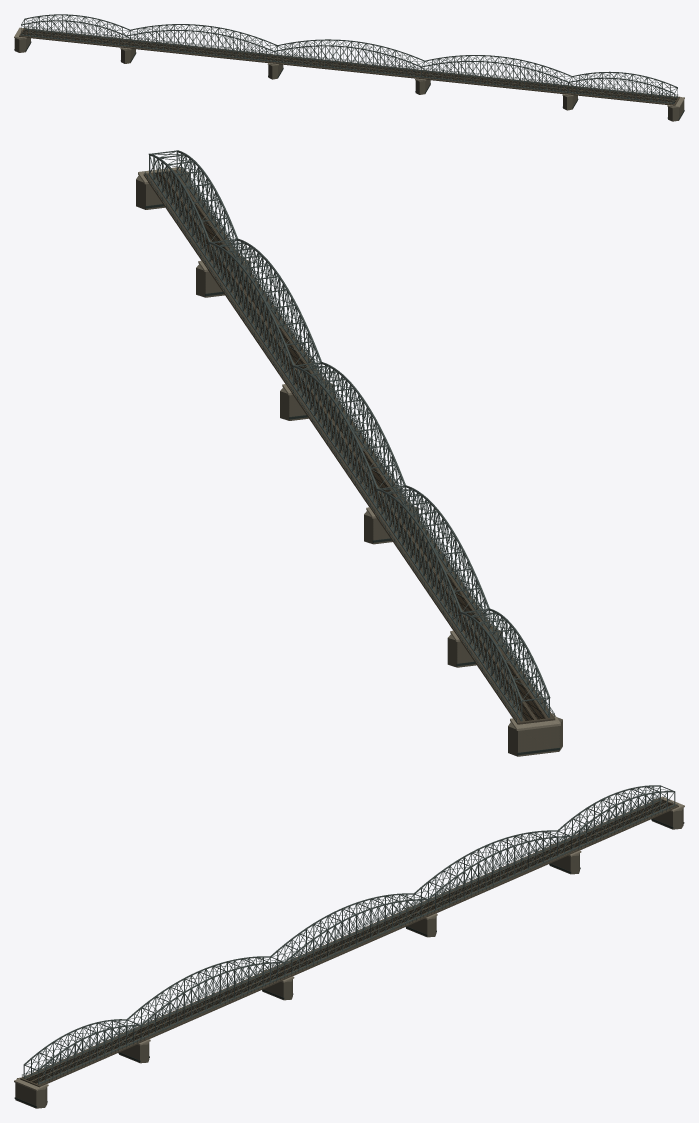
The picture shows the model from 3 angles, top to bottom: view 1: azimuth 30°, elevation 25°; view 2: azimuth 150°, elevation 25°; view 3: azimuth 270°, elevation 25°; orthographic projection. The views are drawn at different scales.
Visible parts, largest first — view 1: willemsspoorbrug-1, willemsspoorbrug-0, willemsspoorbrug-6, willemsspoorbrug-5, willemsspoorbrug-3, willemsspoorbrug-2, willemsspoorbrug-4; view 2: willemsspoorbrug-1, willemsspoorbrug-0, willemsspoorbrug-5, willemsspoorbrug-3, willemsspoorbrug-6, willemsspoorbrug-2; view 3: willemsspoorbrug-1, willemsspoorbrug-0, willemsspoorbrug-5, willemsspoorbrug-3, willemsspoorbrug-6, willemsspoorbrug-2.
Part boxes in pixels (x1=…): willemsspoorbrug-1: x1=20, y1=14, x2=677, y2=104; willemsspoorbrug-0: x1=19, y1=28, x2=679, y2=105; willemsspoorbrug-6: x1=22, y1=30, x2=676, y2=101; willemsspoorbrug-5: x1=21, y1=30, x2=677, y2=102; willemsspoorbrug-3: x1=14, y1=28, x2=684, y2=121; willemsspoorbrug-2: x1=14, y1=27, x2=684, y2=119; willemsspoorbrug-4: x1=14, y1=27, x2=684, y2=107; willemsspoorbrug-1: x1=144, y1=150, x2=554, y2=721; willemsspoorbrug-0: x1=143, y1=169, x2=555, y2=724; willemsspoorbrug-5: x1=154, y1=171, x2=545, y2=720; willemsspoorbrug-3: x1=136, y1=171, x2=562, y2=756; willemsspoorbrug-6: x1=155, y1=172, x2=543, y2=719; willemsspoorbrug-2: x1=144, y1=170, x2=559, y2=755; willemsspoorbrug-1: x1=22, y1=785, x2=677, y2=1084; willemsspoorbrug-0: x1=20, y1=798, x2=678, y2=1087; willemsspoorbrug-5: x1=26, y1=800, x2=672, y2=1083; willemsspoorbrug-3: x1=15, y1=799, x2=683, y2=1108; willemsspoorbrug-6: x1=27, y1=800, x2=671, y2=1082; willemsspoorbrug-2: x1=14, y1=798, x2=684, y2=1107.
Bounding box in the file's own units: 302 × 24.64 × 292.
7 materials, 7 textured.
